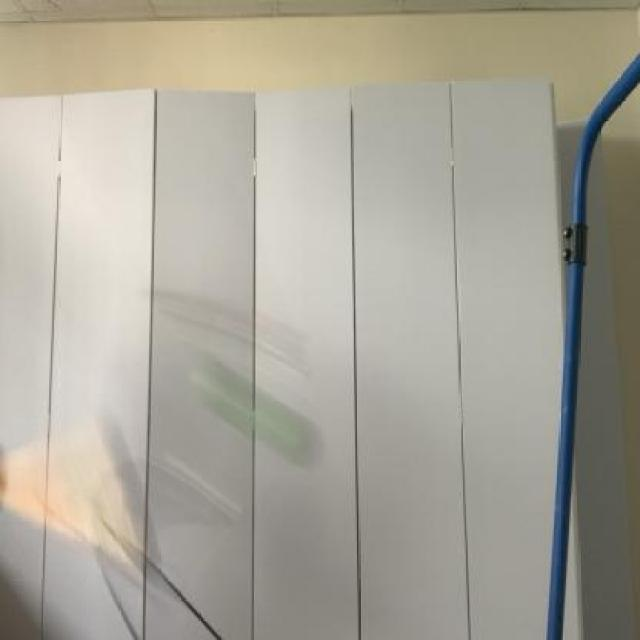baseball: (173, 336, 321, 461)
